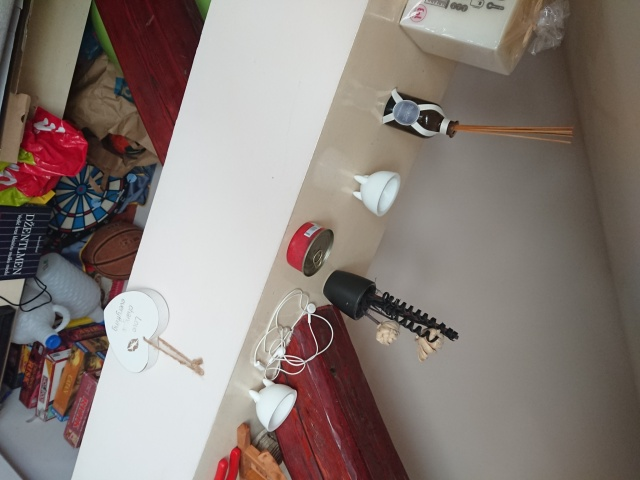Gavrilovic Pork Liver Pate 100g: (284, 219, 335, 277)
